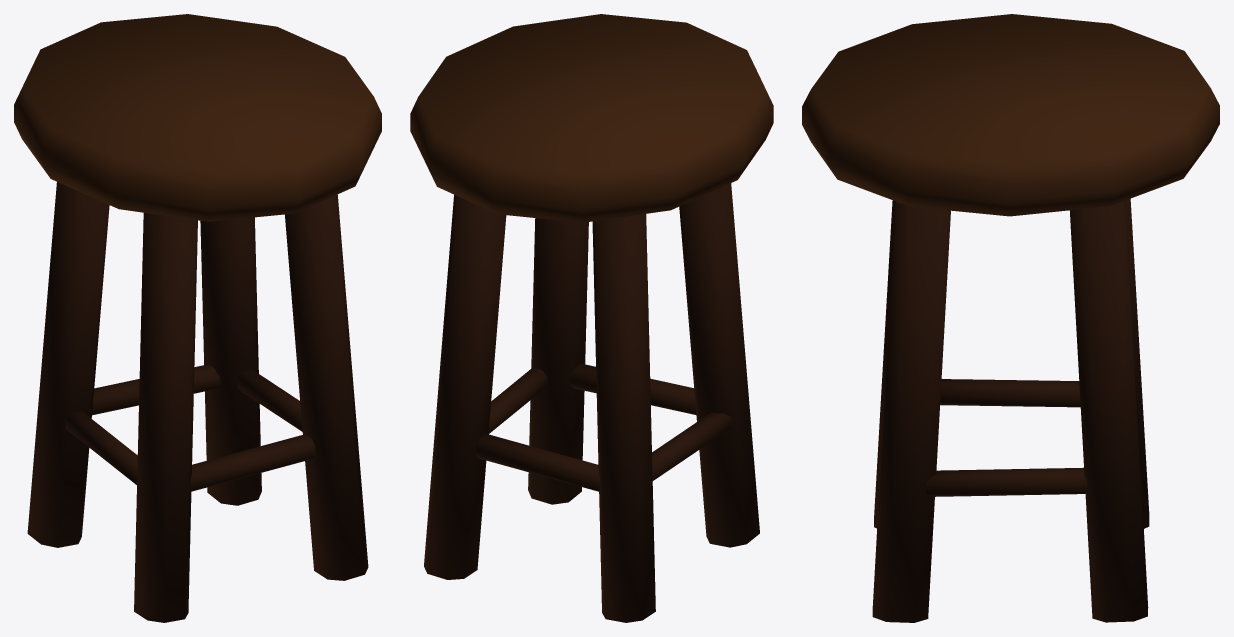
The model's file is stool.glb.
3 renders of one model, left to right at view 1: azimuth 30°, elevation 25°; view 2: azimuth 150°, elevation 25°; view 3: azimuth 270°, elevation 25°, orthographic. The views are drawn at different scales.
Visible parts, largest first — view 1: Cube; view 2: Cube; view 3: Cube.
Part boxes in pixels (x1=…): Cube: x1=14, y1=14, x2=381, y2=622; Cube: x1=410, y1=14, x2=773, y2=622; Cube: x1=802, y1=14, x2=1219, y2=622.
Size of the model in its own units: 0.542 by 0.7792 by 0.6138.
